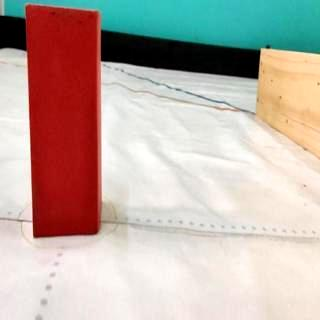redbox: (24, 2, 100, 238)
